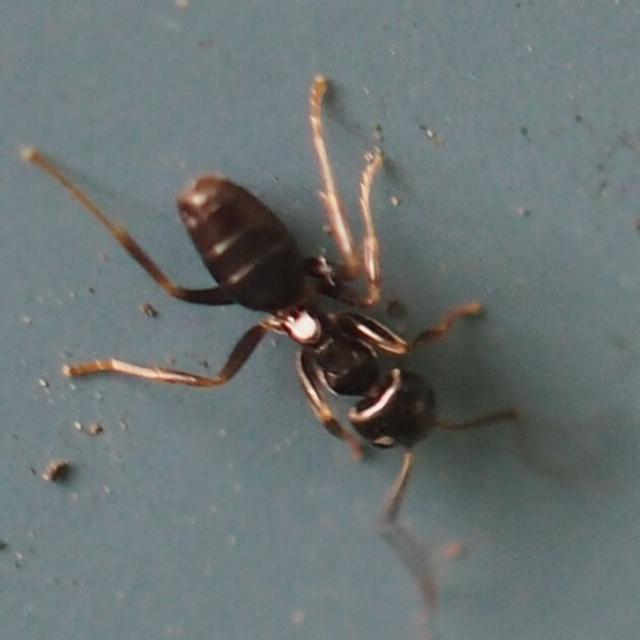Tapinoma: (100, 108, 516, 516)
